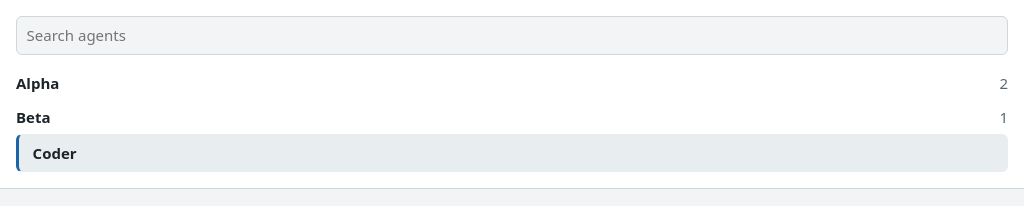
Test: AgentBrowser › filters, opens matches, and shows empty state
Type " read " into the search field labelled "Search agents" at (512, 35), box [16,16,1008,55]
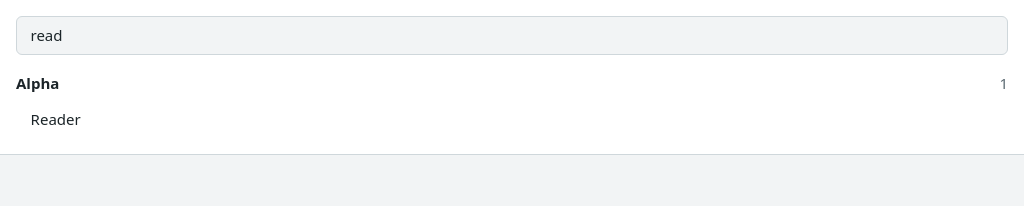
Replace the text in the search field named "Search agents" with "zzz" at (512, 35), box [16,16,1008,55]
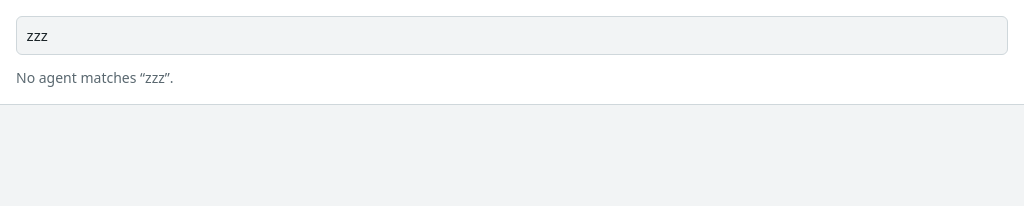
expect the text "No agent matches “zzz”." is shown: met, box [16,68,174,87]
